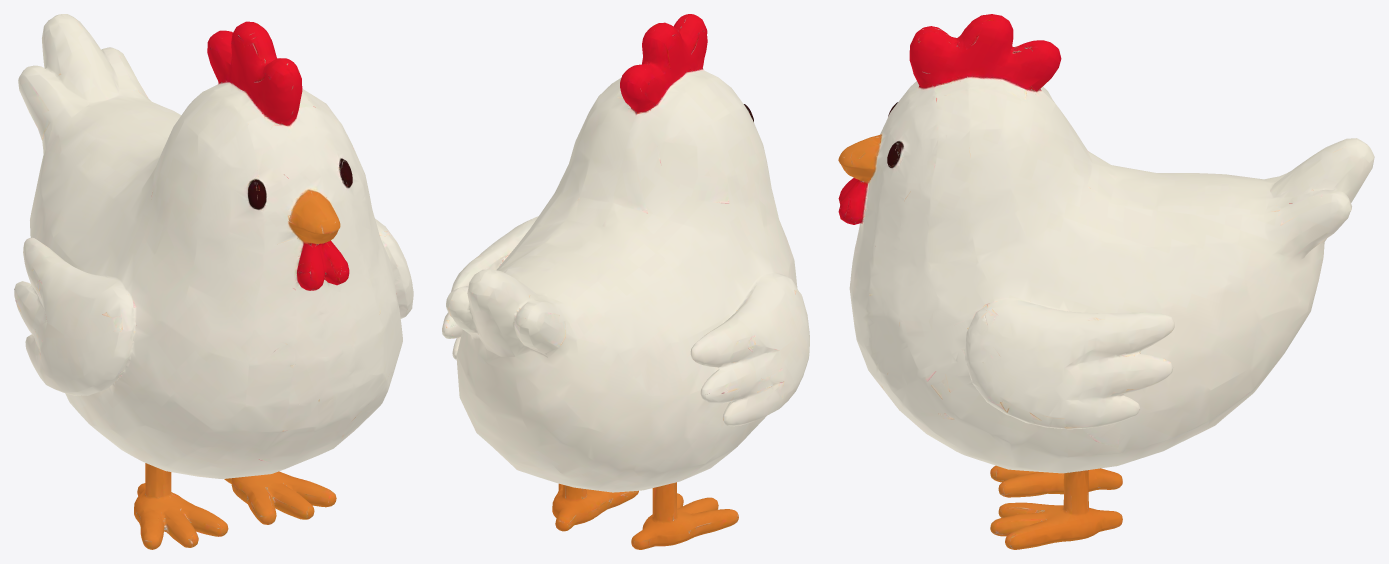
File: chicken.glb
3 renders of one model, left to right at view 1: azimuth 30°, elevation 25°; view 2: azimuth 150°, elevation 25°; view 3: azimuth 270°, elevation 25°, orthographic. The views are drawn at different scales.
Visible parts, largest first — view 1: Mesh_0; view 2: Mesh_0; view 3: Mesh_0.
Boxes of the visible parts, x1,y1,x2,y2 form: Mesh_0: (14, 14, 413, 549); Mesh_0: (442, 14, 809, 549); Mesh_0: (838, 14, 1374, 549).
Size of the model in its own units: 1.34 by 1.91 by 1.87.
Materials: 1 (1 with a texture image).
